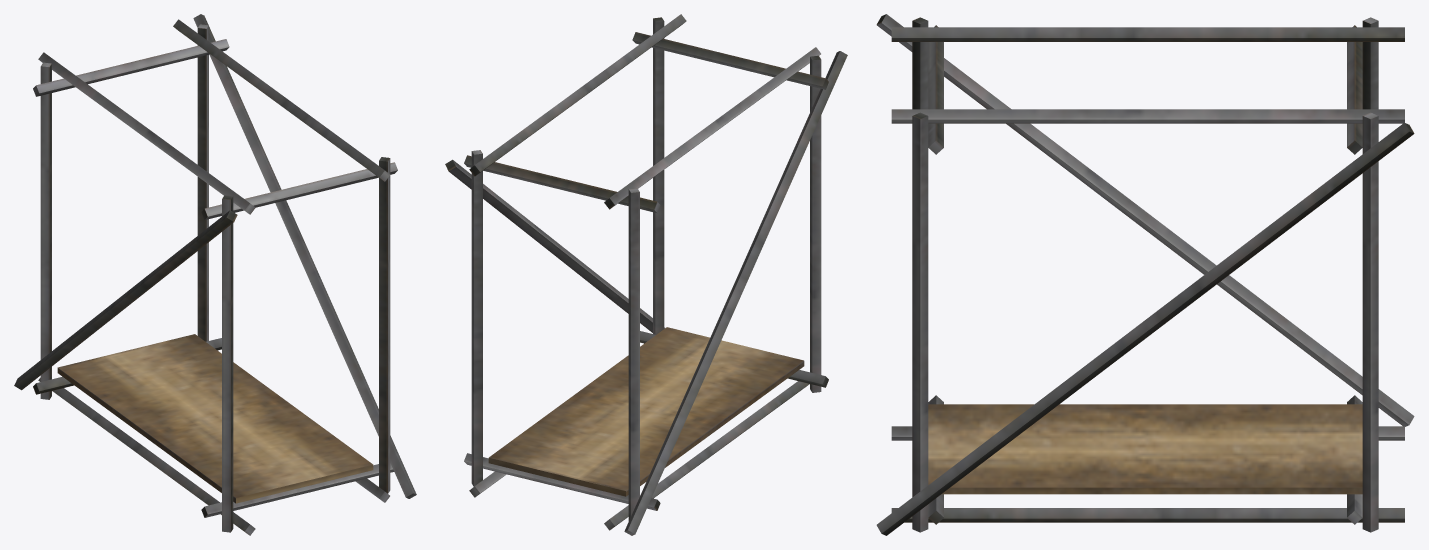
File: Scaffolding01Mid.obj
3 views of the same model, side by side, from view 1: azimuth 30°, elevation 25°; view 2: azimuth 150°, elevation 25°; view 3: azimuth 270°, elevation 25° (orthographic). The views are drawn at different scales.
Visible parts, largest first — view 1: Scaffolding01M; view 2: Scaffolding01M; view 3: Scaffolding01M.
Part boxes in pixels (x1,y1,x2,y2): Scaffolding01M: [14, 14, 416, 535]; Scaffolding01M: [445, 14, 847, 535]; Scaffolding01M: [876, 14, 1414, 535].
Bounding box in the file's own units: 2.42 × 4.05 × 4.78.
